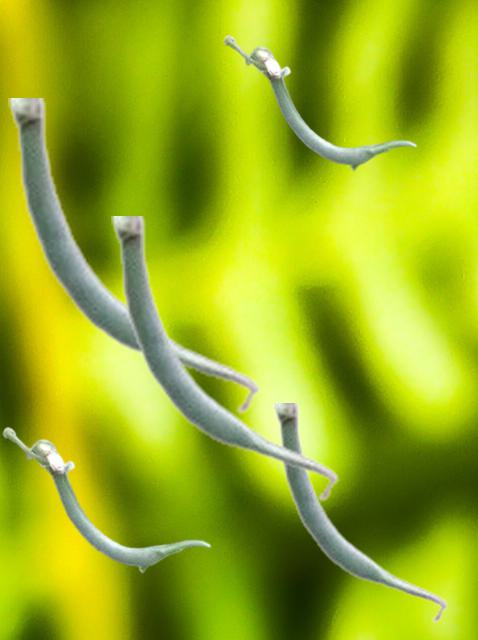french_bean: (8, 98, 259, 415), (111, 216, 338, 502), (273, 403, 447, 623), (2, 426, 210, 572), (223, 34, 416, 170)
